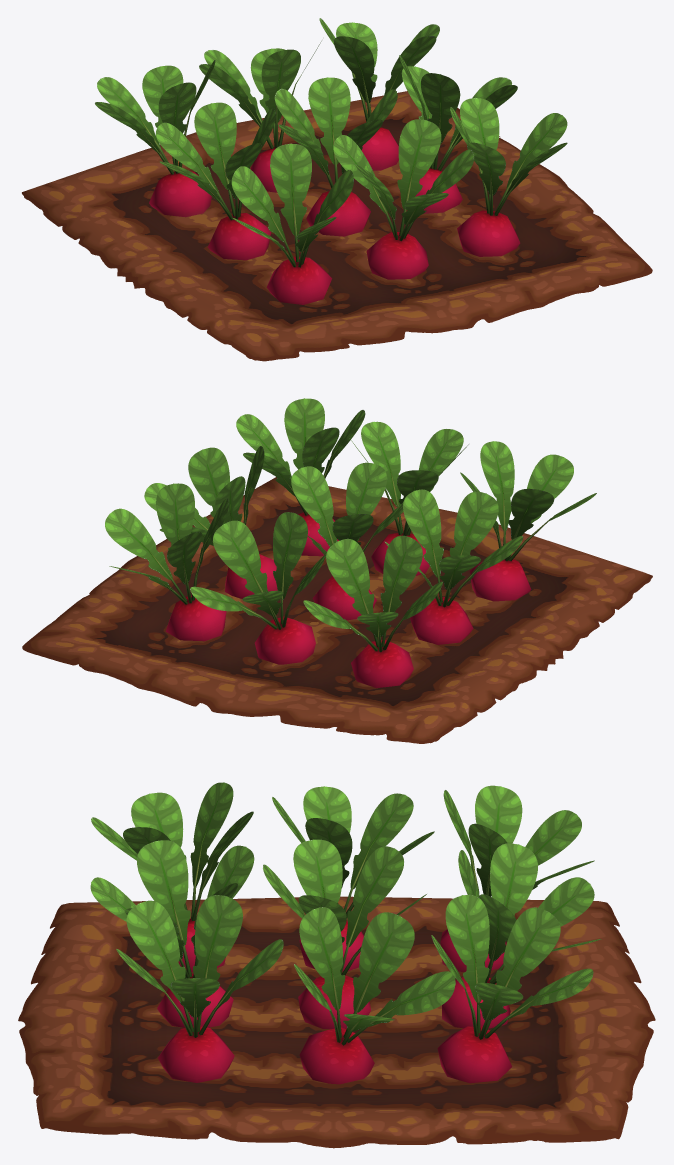
File: Radish_Field_Lv3.FBX
3 views of the same model, one above another, from view 1: azimuth 30°, elevation 25°; view 2: azimuth 150°, elevation 25°; view 3: azimuth 270°, elevation 25° (orthographic). The views are drawn at different scales.
Visible parts, largest first — view 1: Radish_Field_Lv3; view 2: Radish_Field_Lv3; view 3: Radish_Field_Lv3.
Part boxes in pixels (box(x1,y1,x2,y2)): Radish_Field_Lv3: box(22, 18, 652, 361); Radish_Field_Lv3: box(22, 398, 652, 743); Radish_Field_Lv3: box(18, 782, 655, 1148).
Bounding box in the file's own units: 274 × 111 × 296.
